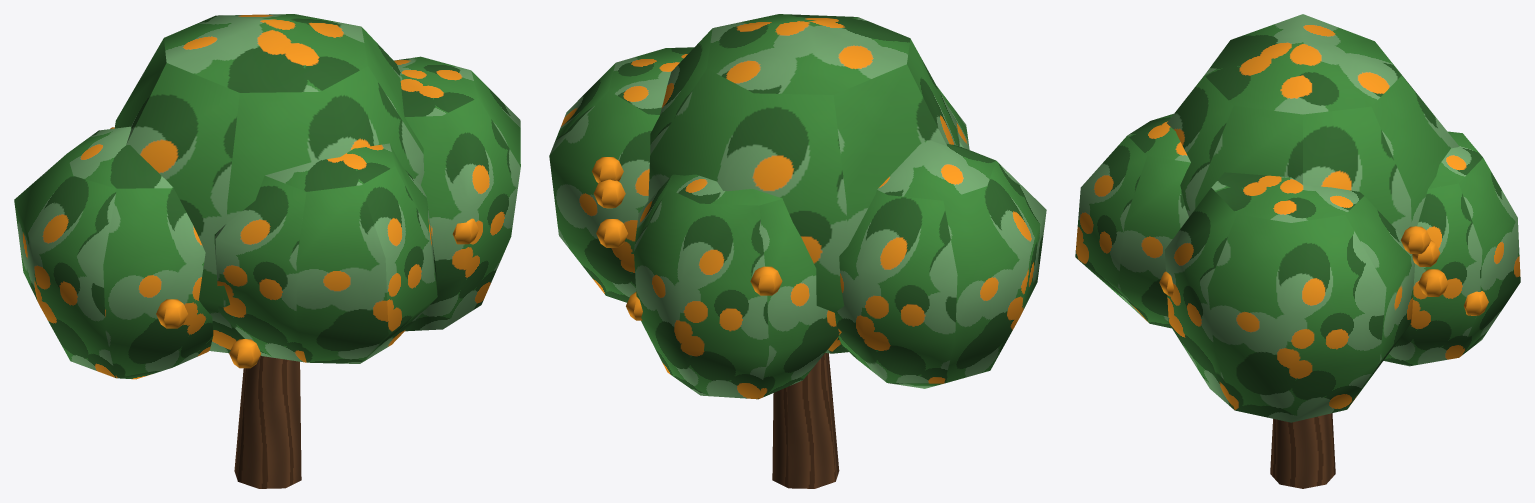
Rendered from env_tangerine_tree.glb.
3 renders of one model, left to right at view 1: azimuth 30°, elevation 25°; view 2: azimuth 150°, elevation 25°; view 3: azimuth 270°, elevation 25°, orthographic. The views are drawn at different scales.
Parts seen in each view (by area): view 1: env_tangerine_tree; view 2: env_tangerine_tree; view 3: env_tangerine_tree.
Boxes of the visible parts, bbox=[...] form: env_tangerine_tree: bbox=[14, 14, 520, 488]; env_tangerine_tree: bbox=[549, 14, 1046, 488]; env_tangerine_tree: bbox=[1075, 14, 1520, 488].
Size of the model in its own units: 4.44 by 4.05 by 3.8.
1 material, 1 textured.
